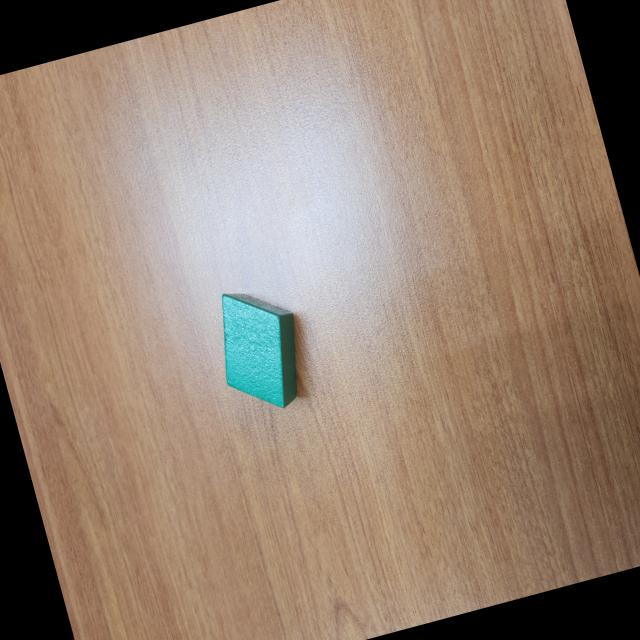green: (202, 277, 318, 421)
